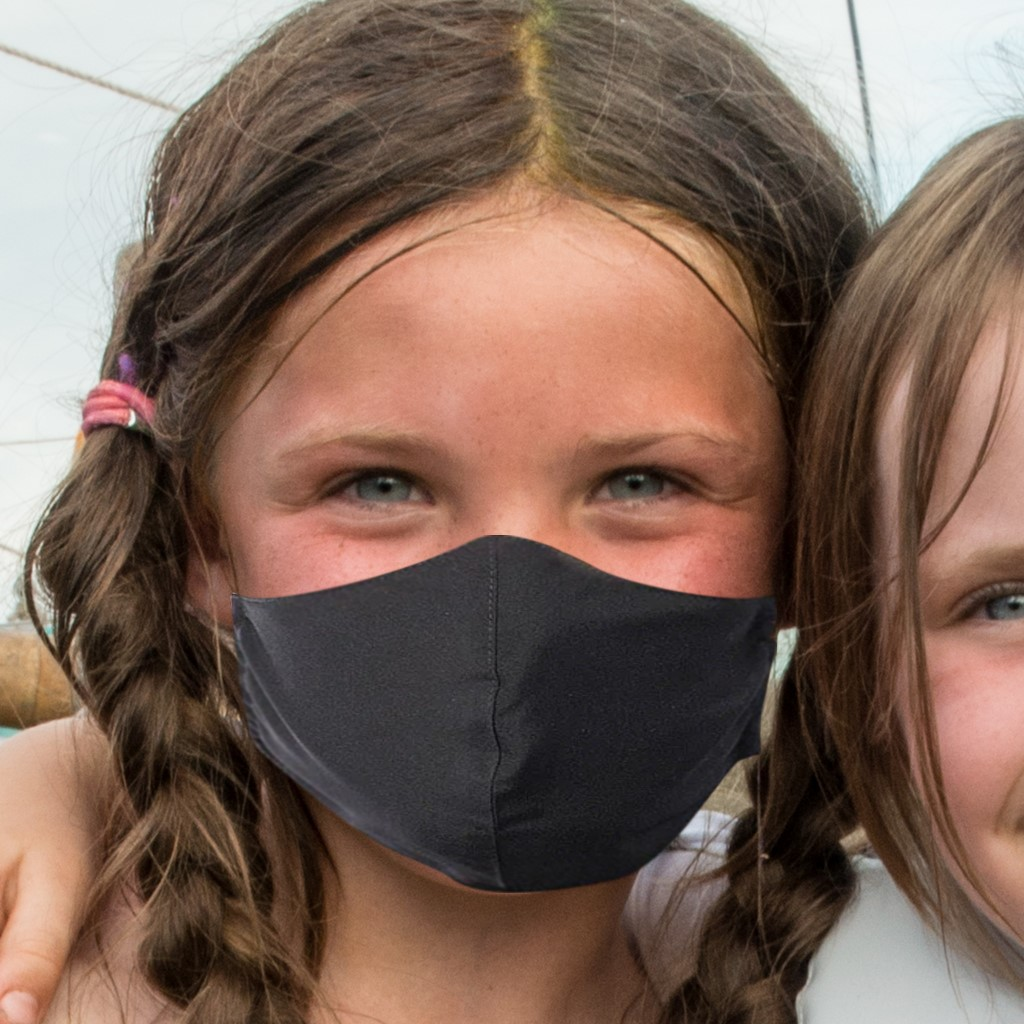con_mascara: (204, 137, 804, 913)
